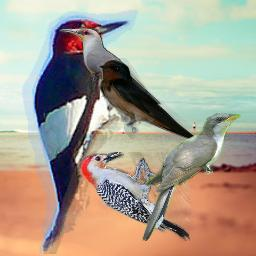Cuckoo: (142, 113, 241, 241), (59, 27, 174, 128)
Swallow: (96, 58, 206, 146)
Woodpecker: (12, 2, 142, 254), (81, 152, 190, 241)
